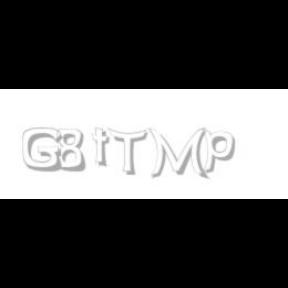8: (57, 128, 86, 172)
G: (22, 128, 62, 172)
M: (148, 128, 207, 180)
T: (107, 128, 147, 176)
p: (201, 128, 238, 174)
t: (92, 128, 114, 168)
